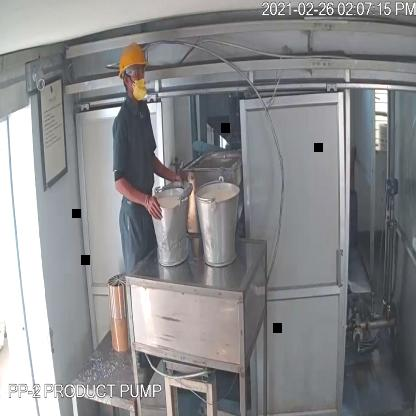helmet: (112, 31, 150, 80)
